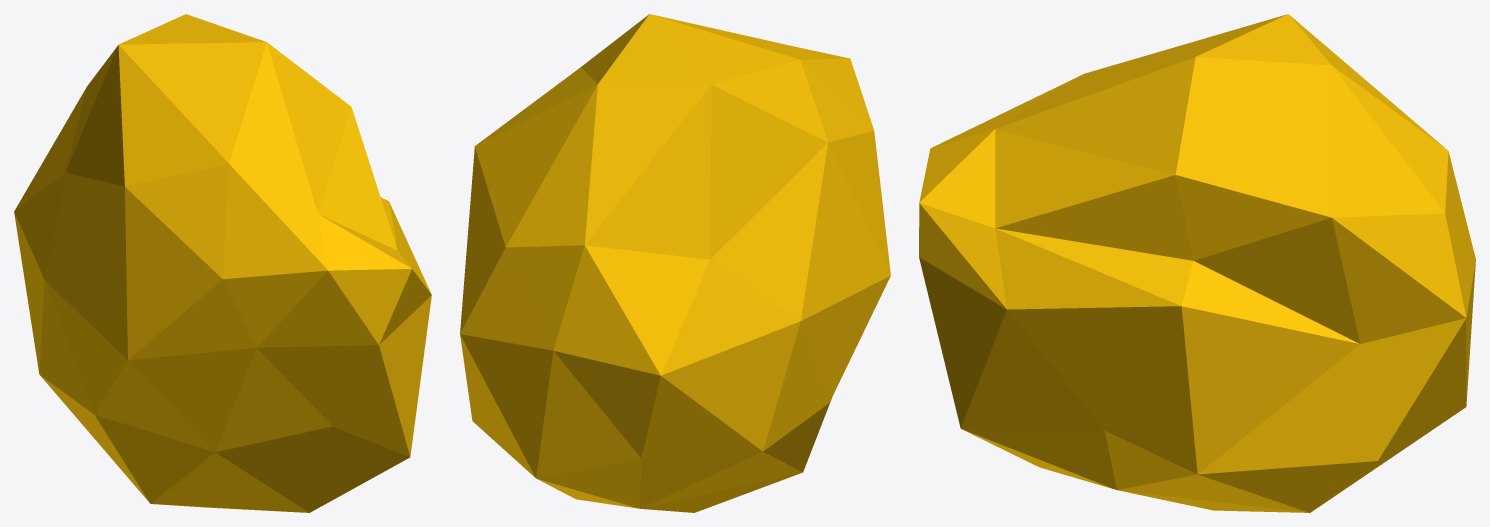
Rendered from GoldOre.fbx.
3 renders of one model, left to right at view 1: azimuth 30°, elevation 25°; view 2: azimuth 150°, elevation 25°; view 3: azimuth 270°, elevation 25°, orthographic. The views are drawn at different scales.
Visible parts, largest first — view 1: Icosphere; view 2: Icosphere; view 3: Icosphere.
Boxes of the visible parts, bbox=[...] form: Icosphere: bbox=[14, 14, 431, 512]; Icosphere: bbox=[460, 14, 890, 512]; Icosphere: bbox=[919, 14, 1475, 512].
Size of the model in its own units: 148 by 216 by 227.
